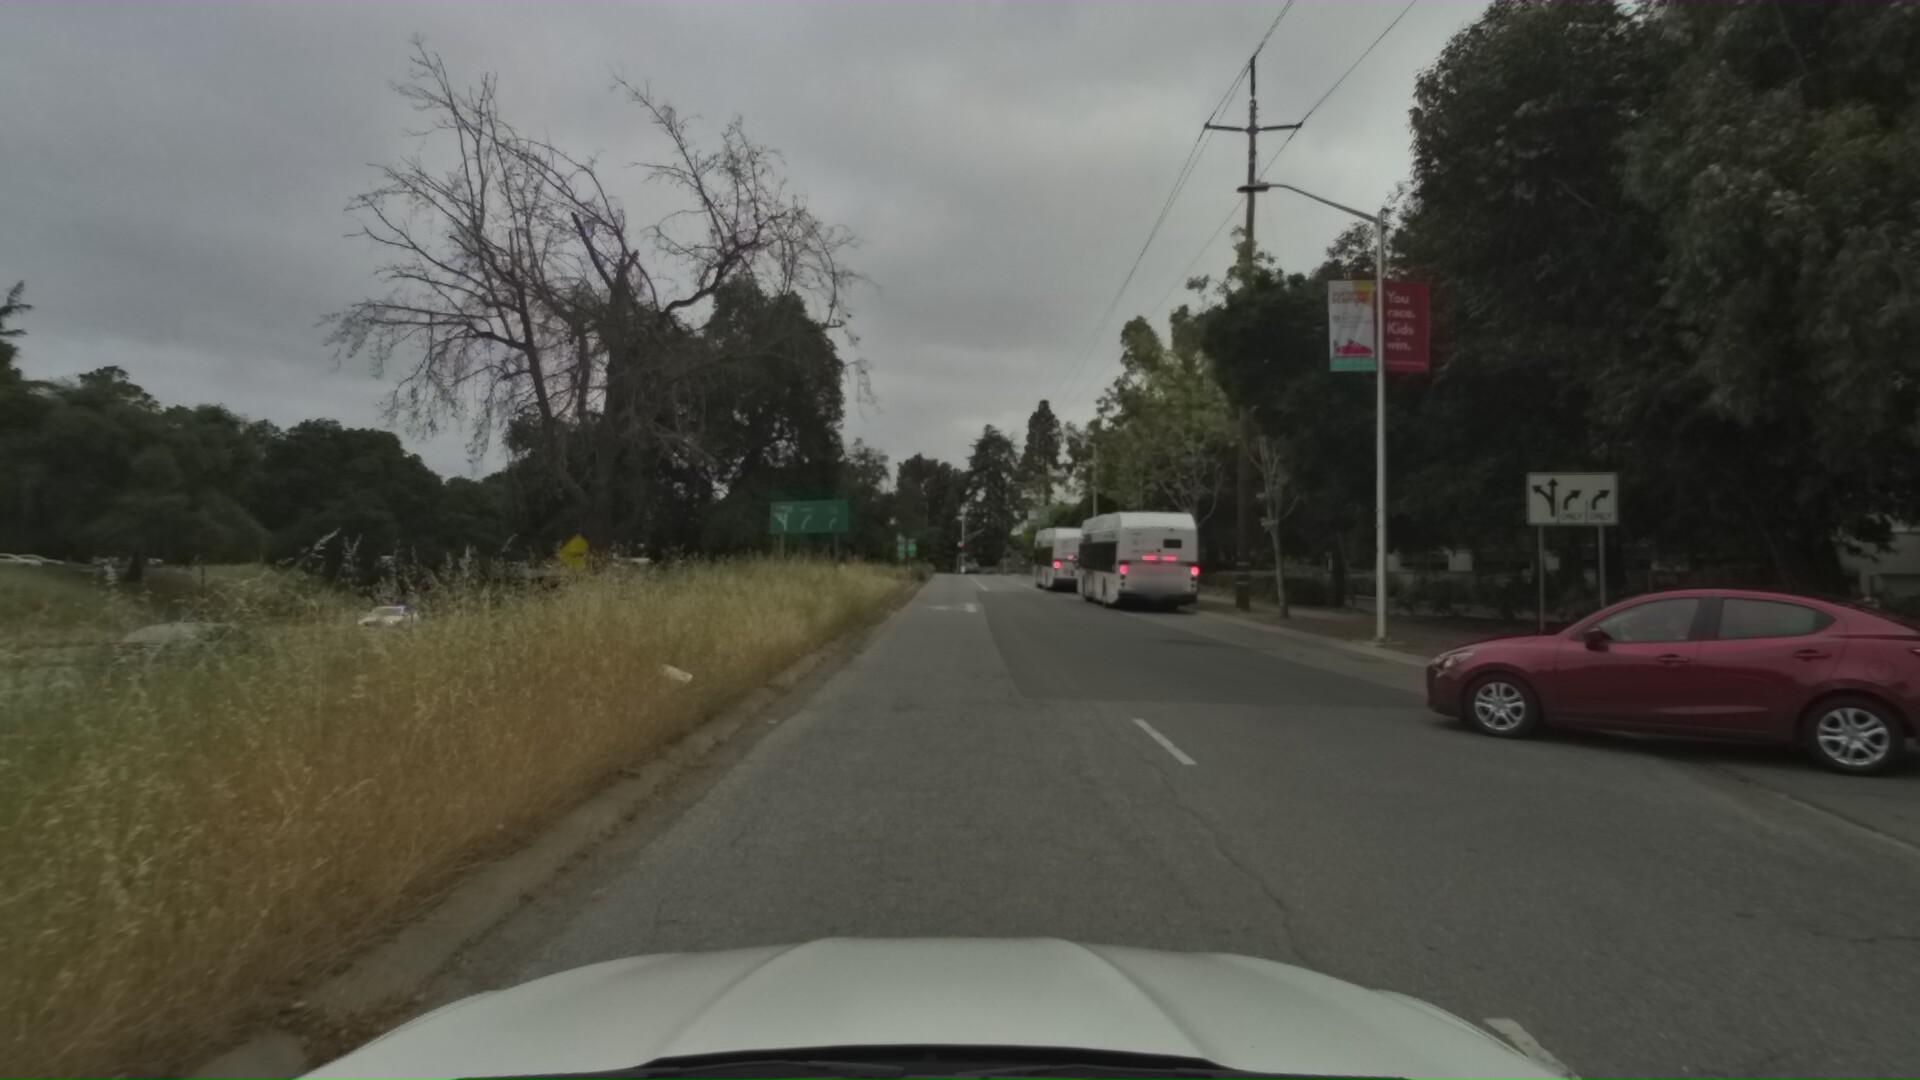bus: (1069, 496, 1207, 609), (1031, 512, 1120, 587)
car: (1411, 588, 1920, 829), (57, 604, 297, 700)
